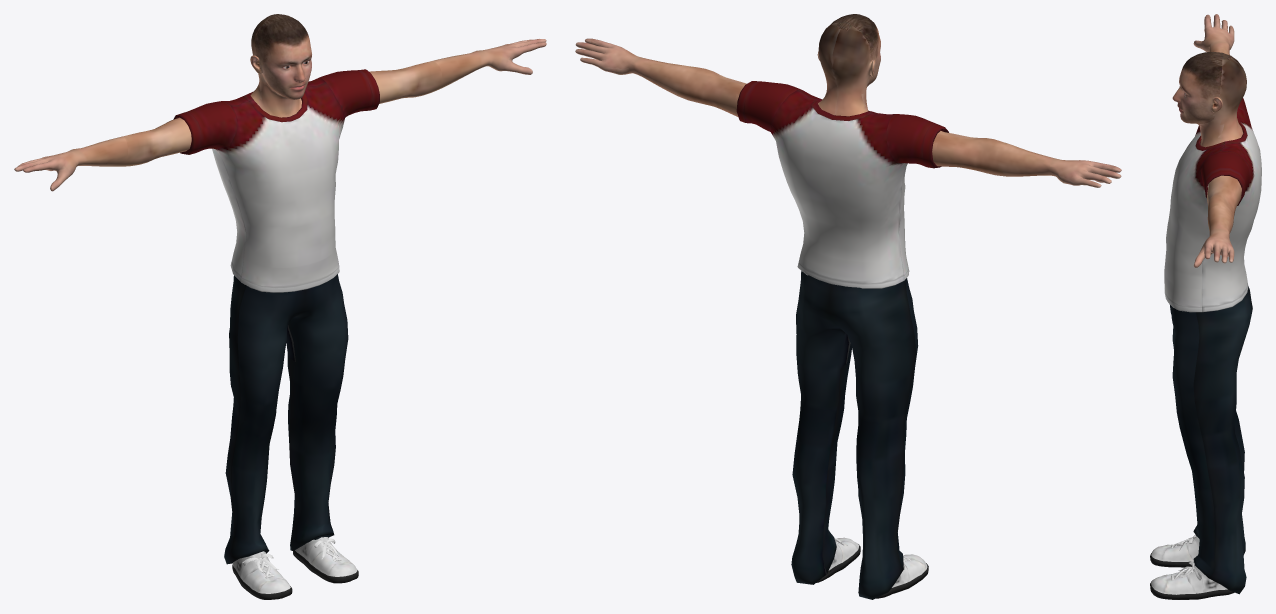
File: MichaelStandIdle.fbx
3 renders of one model, left to right at view 1: azimuth 30°, elevation 25°; view 2: azimuth 150°, elevation 25°; view 3: azimuth 270°, elevation 25°, orthographic. The views are drawn at different scales.
Visible parts, largest first — view 1: Michael_Geo1; view 2: Michael_Geo1; view 3: Michael_Geo1.
Part boxes in pixels (<box>): Michael_Geo1: <box>14,14,546,599</box>; Michael_Geo1: <box>575,14,1121,599</box>; Michael_Geo1: <box>1150,14,1261,599</box>.
Bounding box in the file's own units: 1.88 × 1.86 × 0.3599.
